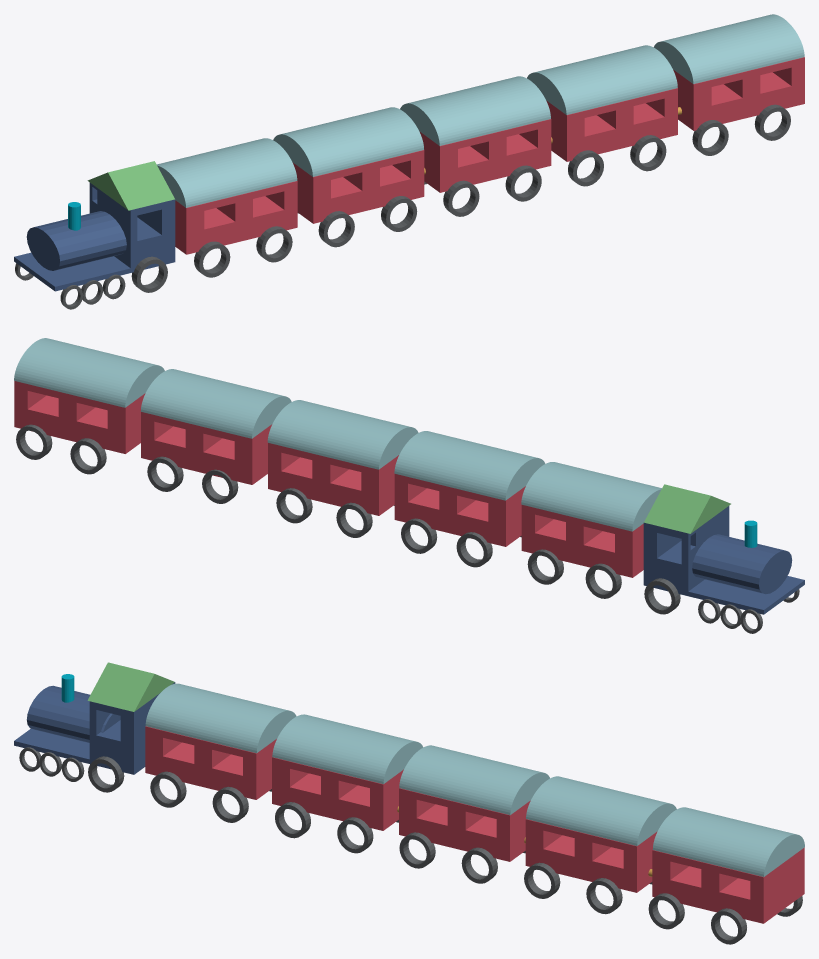
The model's file is train.glb.
3 views of the same model, one above another, from view 1: azimuth 30°, elevation 25°; view 2: azimuth 150°, elevation 25°; view 3: azimuth 330°, elevation 25° (orthographic).
Visible parts, largest first — view 1: Mesh_Mesh_head_geo.001_lambert2SG.001; view 2: Mesh_Mesh_head_geo.001_lambert2SG.001; view 3: Mesh_Mesh_head_geo.001_lambert2SG.001.
Boxes of the visible parts, left/top/right/bottom form: Mesh_Mesh_head_geo.001_lambert2SG.001: left=14, top=14, right=804, bottom=309; Mesh_Mesh_head_geo.001_lambert2SG.001: left=14, top=338, right=804, bottom=633; Mesh_Mesh_head_geo.001_lambert2SG.001: left=14, top=662, right=804, bottom=944.
Bounding box in the file's own units: 337 × 46 × 38.
